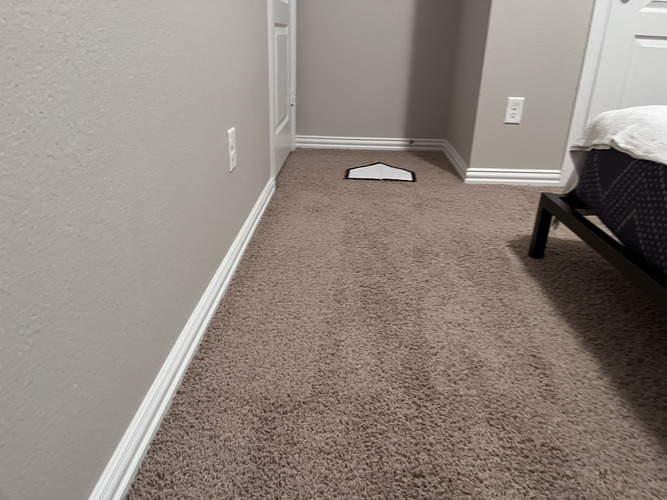homeplate: (344, 162, 416, 183)
